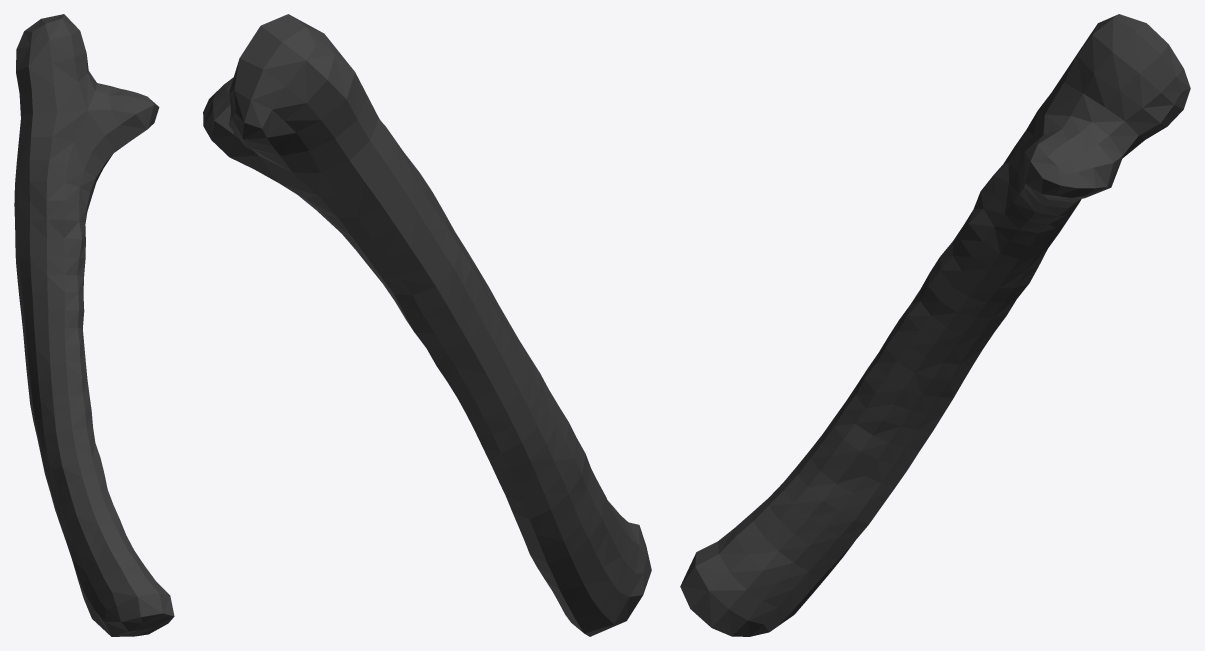
The model's file is Rib_1_R.glb.
The picture shows the model from 3 angles, left to right: view 1: azimuth 30°, elevation 25°; view 2: azimuth 150°, elevation 25°; view 3: azimuth 270°, elevation 25°; orthographic projection. The views are drawn at different scales.
Parts seen in each view (by area): view 1: Rib_1_R; view 2: Rib_1_R; view 3: Rib_1_R.
Part boxes in pixels (x1,y1,x2,y2): Rib_1_R: (14, 14, 174, 636); Rib_1_R: (203, 14, 651, 636); Rib_1_R: (680, 14, 1190, 636).
Bounding box in the file's own units: 1.41 × 3.76 × 2.62.
1 material, 1 textured.
